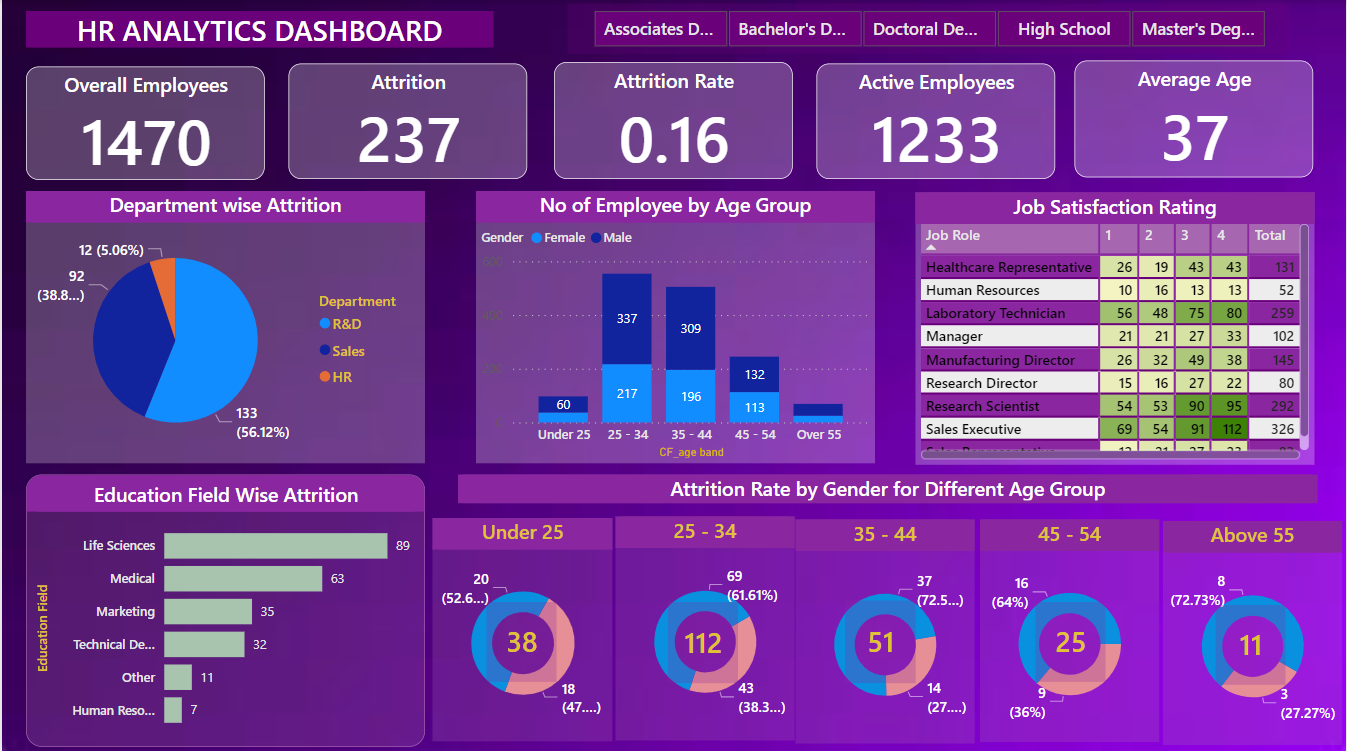

The dashboard page shown, as its layout file describes it:
{"tool":"powerbi","page":{"name":"Page 1","canvas":[1280,720],"ordinal":0},"visuals":[{"type":"card","title":"Overall Employees","fields":{"Values":["Sum(HR data.Employee Count)"]},"box":[22.3,63.6,227.3,108.1],"z":0},{"type":"card","title":"Attrition","fields":{"Values":["Sum(HR data.Attrition Column)"]},"box":[273.4,62,227.3,109.7],"z":1000},{"type":"card","title":"Attrition Rate","fields":{"Values":["HR data.Attrition Rate"]},"box":[526.1,60.4,227.3,111.3],"z":2000},{"type":"card","title":"Active Employees","fields":{"Values":["HR data.Active Employees"]},"box":[775.6,62,227.3,109.7],"z":3000},{"type":"card","title":"Average Age","fields":{"Values":["Avg(HR data.Age)"]},"box":[1022,58.8,227.3,111.3],"z":4000},{"type":"pieChart","title":"Department wise Attrition","fields":{"Category":["HR data.Department"],"Y":["Sum(HR data.Attrition Column)"]},"box":[22.3,182.8,379.9,259.1],"z":5000},{"type":"columnChart","title":"No of Employee by Age Group","fields":{"Category":["HR data.CF_age band"],"Y":["Sum(HR data.Employee Count)"],"Series":["HR data.Gender"]},"box":[451.4,182.8,379.9,259.1],"z":6000},{"type":"pivotTable","title":"Job Satisfaction Rating","fields":{"Rows":["HR data.Job Role"],"Columns":["HR data.Job Satisfaction"],"Values":["Sum(HR data.Employee Count)"]},"box":[869.4,184.4,379.9,259.1],"z":7000},{"type":"barChart","title":"Education Field Wise Attrition","fields":{"Category":["HR data.Education Field"],"Y":["Sum(HR data.Attrition Column)"]},"box":[22.3,453,379.9,259.1],"z":8000},{"type":"donutChart","title":"Under 25","fields":{"Category":["HR data.Gender"],"Y":["Sum(HR data.Attrition Column)"],"Series":["HR data.CF_age band"]},"box":[409.4,494,171.7,213],"z":9000},{"type":"textbox","title":"Attrition Rate by Gender for Different Age Group","box":[433.9,453,818.5,27],"z":10000},{"type":"donutChart","title":"25 - 34","fields":{"Category":["HR data.Gender"],"Y":["Sum(HR data.Attrition Column)"],"Series":["HR data.CF_age band"]},"box":[584,492.4,170.3,213.3],"z":11000},{"type":"donutChart","title":"35 - 44","fields":{"Category":["HR data.Gender"],"Y":["Sum(HR data.Attrition Column)"],"Series":["HR data.CF_age band"]},"box":[755.8,495.3,170.3,213.3],"z":12000},{"type":"donutChart","title":"45 - 54","fields":{"Category":["HR data.Gender"],"Y":["Sum(HR data.Attrition Column)"],"Series":["HR data.CF_age band"]},"box":[931.8,495.3,170.3,211.8],"z":13000},{"type":"donutChart","title":" Above 55","fields":{"Category":["HR data.Gender"],"Y":["Sum(HR data.Attrition Column)"],"Series":["HR data.CF_age band"]},"box":[1105,496.7,170.3,213.3],"z":14000},{"type":"card","fields":{"Values":["Sum(HR data.Attrition Column)"]},"box":[461.8,573.9,66.6,75.7],"z":15000},{"type":"card","fields":{"Values":["Sum(HR data.Attrition Column)"]},"box":[634.5,573.9,66.6,77.2],"z":16000},{"type":"card","fields":{"Values":["Sum(HR data.Attrition Column)"]},"box":[803.3,573.4,67.3,78.7],"z":17000},{"type":"card","fields":{"Values":["Sum(HR data.Attrition Column)"]},"box":[984.2,573.9,66.6,75.7],"z":18000},{"type":"card","fields":{"Values":["Sum(HR data.Attrition Column)"]},"box":[1155.3,576.9,66.6,75.7],"z":19000},{"type":"textbox","title":"HR ANALYTICS DASHBOARD ","box":[22.3,11.1,445,35],"z":20000},{"type":"slicer","fields":{"Values":["HR data.Education"]},"box":[538.8,4.8,688.2,47.7],"z":21000}]}

Visuals, with their boxes in screenshot pixels (x1, y1, x2, y2), scaled from the page's 1280x720 canvas onto the 1347x751 screenshot:
"Overall Employees" card: bbox=[23, 66, 263, 179]
"Attrition" card: bbox=[288, 65, 527, 179]
"Attrition Rate" card: bbox=[554, 63, 793, 179]
"Active Employees" card: bbox=[816, 65, 1055, 179]
"Average Age" card: bbox=[1075, 61, 1315, 177]
"Department wise Attrition" pieChart: bbox=[23, 191, 423, 461]
"No of Employee by Age Group" columnChart: bbox=[475, 191, 875, 461]
"Job Satisfaction Rating" pivotTable: bbox=[915, 192, 1315, 463]
"Education Field Wise Attrition" barChart: bbox=[23, 473, 423, 743]
"Under 25" donutChart: bbox=[431, 515, 612, 737]
"Attrition Rate by Gender for Different Age Group" textbox: bbox=[457, 473, 1318, 501]
"25 - 34" donutChart: bbox=[615, 514, 794, 736]
"35 - 44" donutChart: bbox=[795, 517, 975, 739]
"45 - 54" donutChart: bbox=[981, 517, 1160, 738]
" Above 55" donutChart: bbox=[1163, 518, 1342, 741]
card - Sum(HR data.Attrition Column): bbox=[486, 599, 556, 678]
card - Sum(HR data.Attrition Column): bbox=[668, 599, 738, 679]
card - Sum(HR data.Attrition Column): bbox=[845, 598, 916, 680]
card - Sum(HR data.Attrition Column): bbox=[1036, 599, 1106, 678]
card - Sum(HR data.Attrition Column): bbox=[1216, 602, 1286, 681]
"HR ANALYTICS DASHBOARD " textbox: bbox=[23, 12, 492, 48]
slicer - HR data.Education: bbox=[567, 5, 1291, 55]
